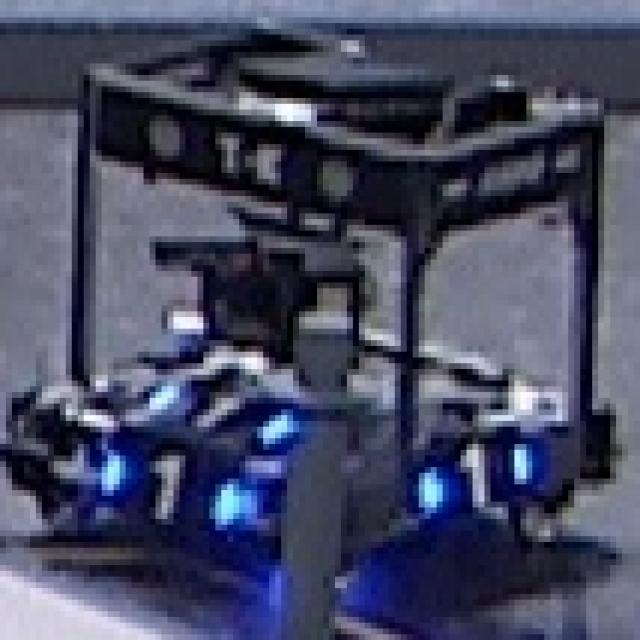B1: (84, 438, 245, 536), (419, 427, 538, 513), (144, 363, 269, 444)
